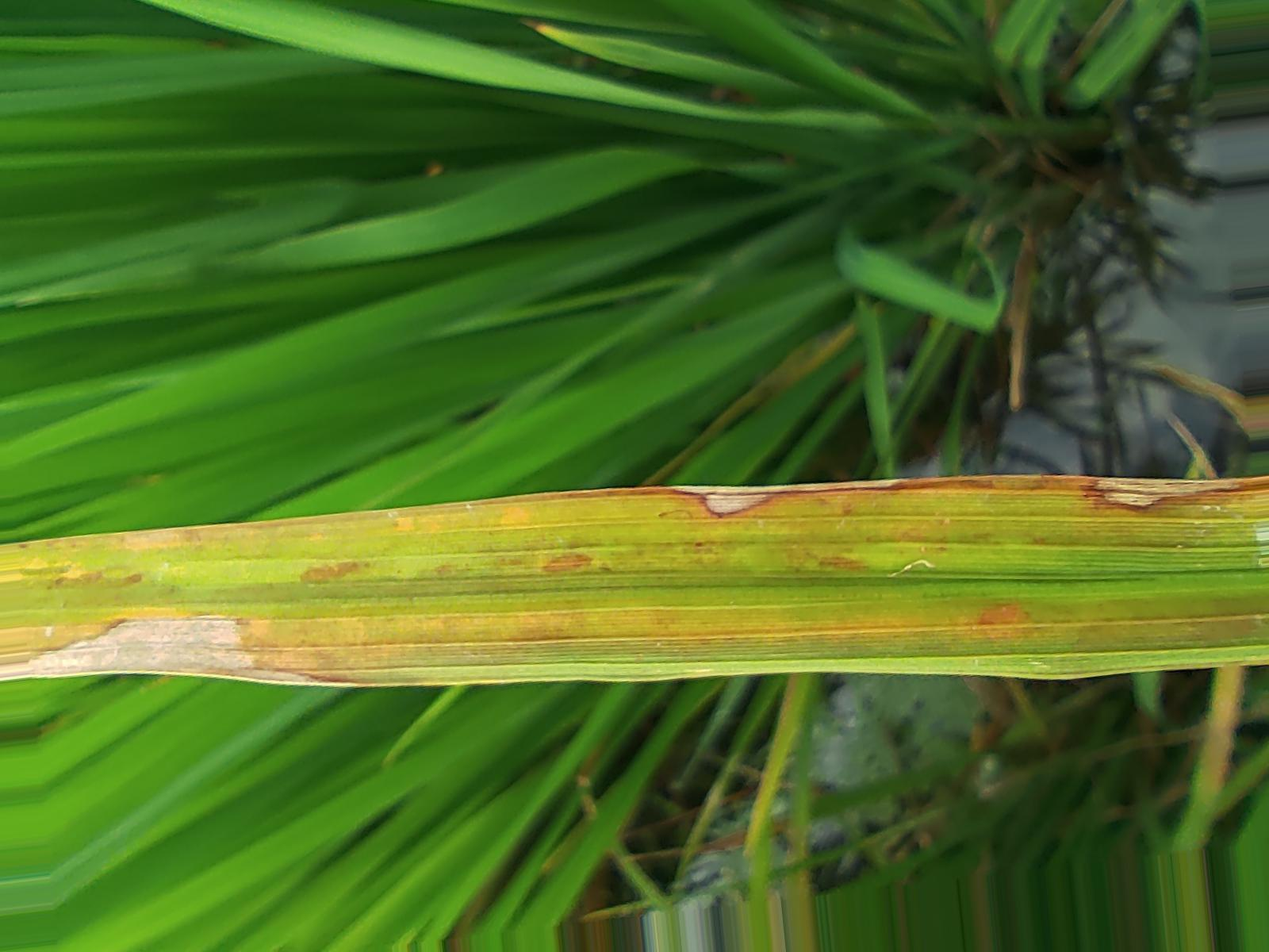LEAF: (27, 475, 1255, 687)
LEAF BLAST: (0, 617, 367, 685), (689, 485, 903, 515), (1083, 478, 1241, 510)
